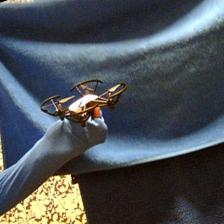drone: (38, 75, 129, 128)
